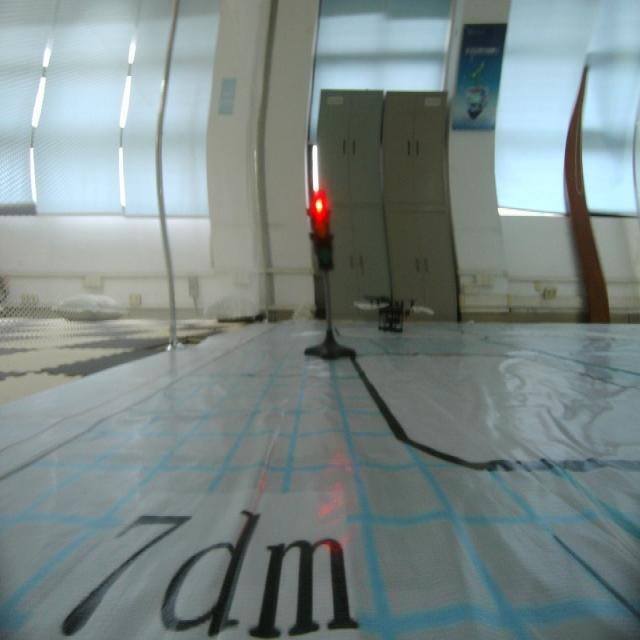red: (306, 191, 337, 277)
